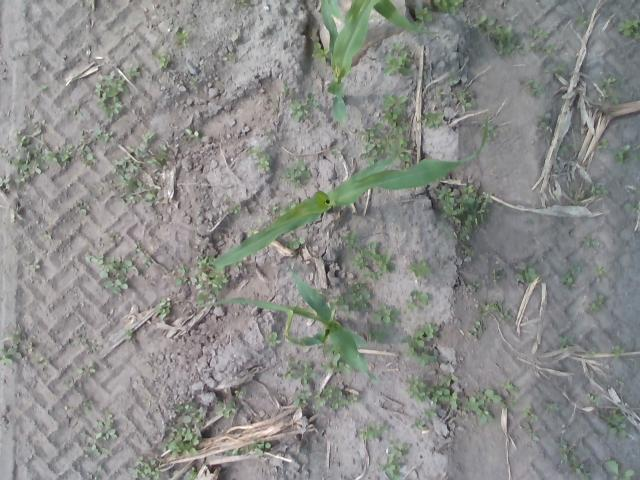Maize: (213, 114, 488, 269), (185, 269, 384, 383), (320, 0, 440, 123)
Weeds: (404, 371, 520, 426), (1, 118, 74, 195), (110, 131, 170, 208), (435, 180, 494, 258), (360, 94, 412, 167), (94, 61, 141, 120), (86, 248, 140, 297), (341, 234, 395, 282), (166, 401, 208, 458), (476, 14, 524, 58), (192, 250, 230, 304), (288, 386, 361, 414), (401, 321, 441, 367), (80, 412, 118, 458), (76, 124, 112, 170), (377, 437, 412, 480), (1, 324, 36, 366), (332, 280, 372, 314), (558, 439, 590, 480), (283, 352, 317, 387), (384, 40, 414, 77), (290, 92, 320, 124), (216, 388, 246, 419), (129, 455, 161, 480), (71, 330, 103, 354), (285, 158, 312, 186), (599, 74, 624, 104), (404, 288, 432, 314), (244, 146, 272, 172), (479, 299, 513, 319), (605, 409, 629, 437), (606, 458, 636, 480), (356, 422, 392, 440), (515, 259, 540, 283), (516, 77, 546, 97), (406, 259, 436, 278), (371, 304, 399, 324), (324, 352, 349, 374), (617, 17, 640, 40), (560, 266, 582, 290), (311, 41, 331, 65), (416, 110, 442, 128), (363, 327, 388, 345), (172, 26, 191, 49), (431, 0, 464, 13), (413, 7, 434, 27), (76, 392, 97, 412), (468, 320, 487, 342), (456, 92, 476, 112), (586, 294, 604, 316), (531, 23, 551, 42), (220, 193, 240, 212), (614, 143, 631, 165), (519, 403, 538, 422), (523, 422, 540, 443), (174, 264, 190, 286), (155, 296, 173, 315), (247, 442, 272, 455), (155, 50, 173, 68), (569, 180, 585, 200), (531, 42, 555, 55), (331, 145, 348, 163), (266, 331, 282, 350), (554, 334, 574, 348), (285, 237, 306, 250), (558, 143, 576, 158), (70, 104, 86, 120), (78, 362, 94, 378), (409, 418, 427, 432), (75, 198, 89, 216), (489, 266, 504, 282), (593, 181, 609, 196), (487, 118, 499, 138), (184, 125, 200, 140), (109, 232, 124, 248), (86, 465, 102, 480), (140, 252, 154, 269), (550, 64, 569, 76), (33, 353, 48, 368), (583, 236, 599, 250), (624, 202, 640, 216), (188, 75, 202, 91), (62, 376, 76, 392), (448, 66, 460, 84), (282, 82, 294, 100), (536, 114, 550, 129), (576, 16, 590, 30), (183, 466, 197, 480), (612, 344, 626, 358), (594, 265, 606, 281), (545, 401, 560, 413), (586, 393, 602, 404), (596, 139, 610, 151), (268, 202, 278, 218), (30, 258, 40, 274), (433, 86, 442, 101), (134, 239, 144, 252), (42, 229, 52, 242), (470, 281, 481, 292), (124, 329, 134, 341), (248, 226, 260, 236), (223, 53, 236, 62), (280, 204, 288, 216), (588, 348, 600, 356), (233, 0, 248, 6), (256, 216, 264, 222)
